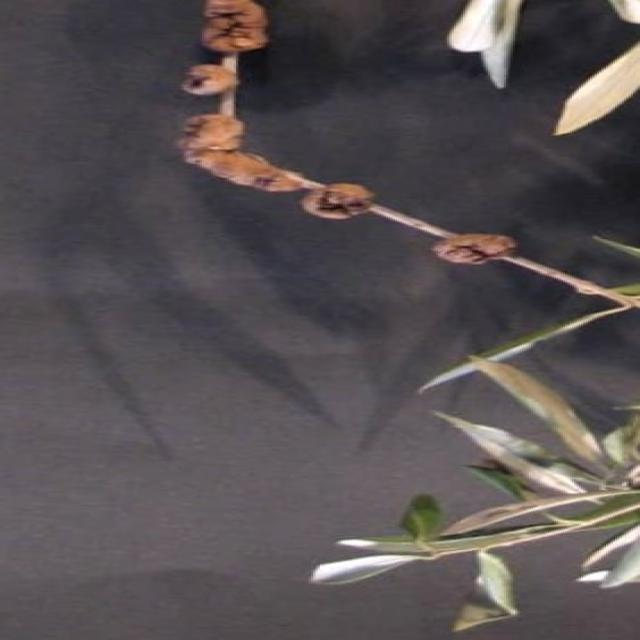Tuberculosis: (182, 113, 315, 192), (204, 0, 266, 54), (302, 183, 372, 219), (436, 235, 513, 264), (182, 64, 231, 93)
